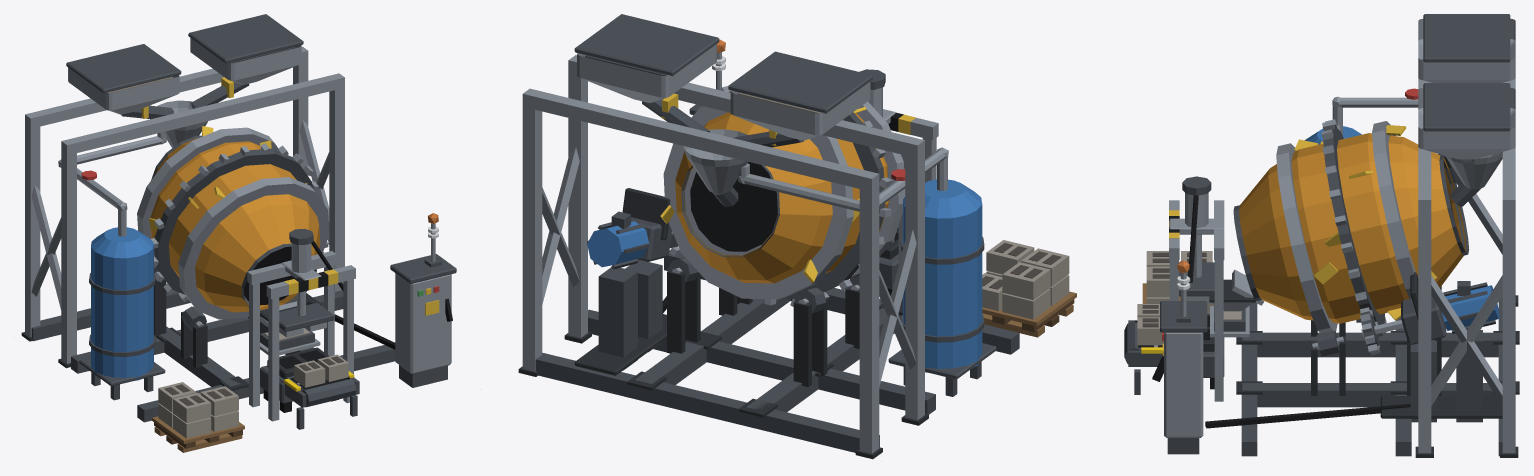
Rendered from betonniere_t2.glb.
The picture shows the model from 3 angles, left to right: view 1: azimuth 30°, elevation 25°; view 2: azimuth 150°, elevation 25°; view 3: azimuth 270°, elevation 25°; orthographic projection. The views are drawn at different scales.
Parts seen in each view (by area): view 1: pieces_acier.015, tambour_corps.002, pieces_acier_sombre.015, reservoir.002, armoire.008, tambour_bandage_0.003, tambour_couronne.002, tremie_bord_0.002, tremie_bord_-0.002, pieces_beton.004, pieces_fonte.015, tambour_bandage_1.004 (+14 smaller); view 2: pieces_acier.015, pieces_acier_sombre.015, pieces_fonte.015, tambour_corps.002, reservoir.002, tambour_bandage_1.004, tremie_bord_-0.002, tremie_bord_0.002, pieces_beton.004, tambour_entree_fond.004, tremie_-0.002, tremie_0.002 (+9 smaller); view 3: tambour_corps.002, pieces_acier_sombre.015, pieces_acier.015, pieces_fonte.015, tremie_bord_0.002, tremie_bord_-0.002, armoire.008, tambour_bandage_0.003, tremie_0.002, tambour_bandage_1.004, tremie_-0.002, pieces_noir.015 (+14 smaller).
Boxes of the visible parts, bbox=[...] form: pieces_acier.015: bbox=[25, 46, 435, 421]; tambour_corps.002: bbox=[150, 138, 320, 312]; pieces_acier_sombre.015: bbox=[31, 81, 447, 429]; reservoir.002: bbox=[91, 244, 153, 380]; armoire.008: bbox=[395, 273, 451, 374]; tambour_bandage_0.003: bbox=[178, 177, 329, 319]; tambour_couronne.002: bbox=[154, 148, 312, 294]; tremie_bord_0.002: bbox=[188, 14, 303, 63]; tremie_bord_-0.002: bbox=[66, 44, 181, 93]; pieces_beton.004: bbox=[158, 382, 238, 438]; pieces_fonte.015: bbox=[21, 279, 329, 390]; tambour_bandage_1.004: bbox=[137, 127, 279, 256]; pieces_acier.015: bbox=[522, 52, 948, 453]; pieces_acier_sombre.015: bbox=[535, 69, 1019, 452]; pieces_fonte.015: bbox=[518, 188, 928, 459]; tambour_corps.002: bbox=[675, 112, 889, 283]; reservoir.002: bbox=[903, 202, 982, 372]; tambour_bandage_1.004: bbox=[663, 106, 853, 299]; tremie_bord_-0.002: bbox=[728, 51, 872, 113]; tremie_bord_0.002: bbox=[574, 14, 719, 76]; pieces_beton.004: bbox=[982, 240, 1069, 319]; tambour_entree_fond.004: bbox=[690, 162, 777, 251]; tremie_-0.002: bbox=[730, 81, 870, 140]; tremie_0.002: bbox=[577, 44, 716, 102]; tambour_corps.002: bbox=[1239, 133, 1466, 323]; pieces_acier_sombre.015: bbox=[1124, 159, 1502, 456]; pieces_acier.015: bbox=[1154, 78, 1515, 453]; pieces_fonte.015: bbox=[1203, 272, 1519, 457]; tremie_bord_0.002: bbox=[1423, 83, 1510, 131]; tremie_bord_-0.002: bbox=[1423, 14, 1510, 62]; armoire.008: bbox=[1164, 332, 1203, 437]; tambour_bandage_0.003: bbox=[1276, 143, 1337, 333]; tremie_0.002: bbox=[1418, 87, 1515, 159]; tambour_bandage_1.004: bbox=[1372, 121, 1415, 298]; tremie_-0.002: bbox=[1418, 18, 1515, 82]; pieces_noir.015: bbox=[1135, 195, 1410, 428].
Bounding box in the file's own units: 1.5 × 1.29 × 1.5.
